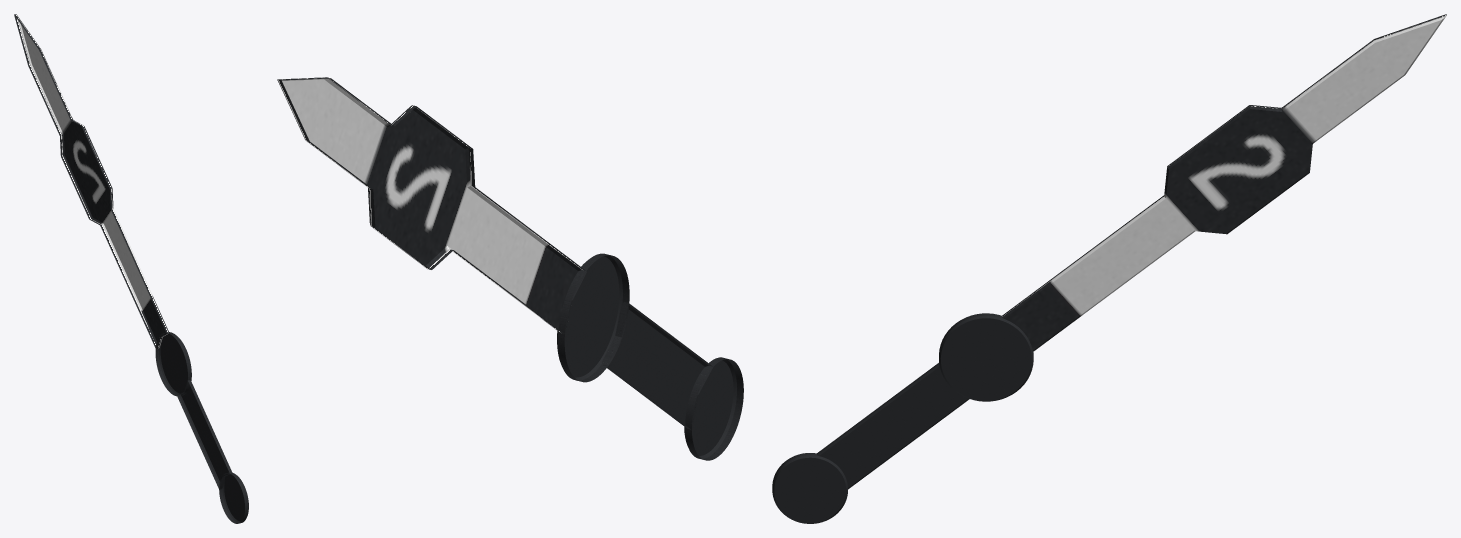
Rendered from needle_2.obj.
3 views of the same model, side by side, from view 1: azimuth 30°, elevation 25°; view 2: azimuth 150°, elevation 25°; view 3: azimuth 270°, elevation 25° (orthographic). The views are drawn at different scales.
Parts seen in each view (by area): view 1: L_PD_ITEd_arr_P; view 2: L_PD_ITEd_arr_P; view 3: L_PD_ITEd_arr_P.
Part boxes in pixels (<box>): L_PD_ITEd_arr_P: <box>14,14,248,523</box>; L_PD_ITEd_arr_P: <box>277,77,743,460</box>; L_PD_ITEd_arr_P: <box>772,14,1446,523</box>.
Size of the model in its own units: 0.4 by 29.51 by 35.53.
Materials: 2 (2 with a texture image).
